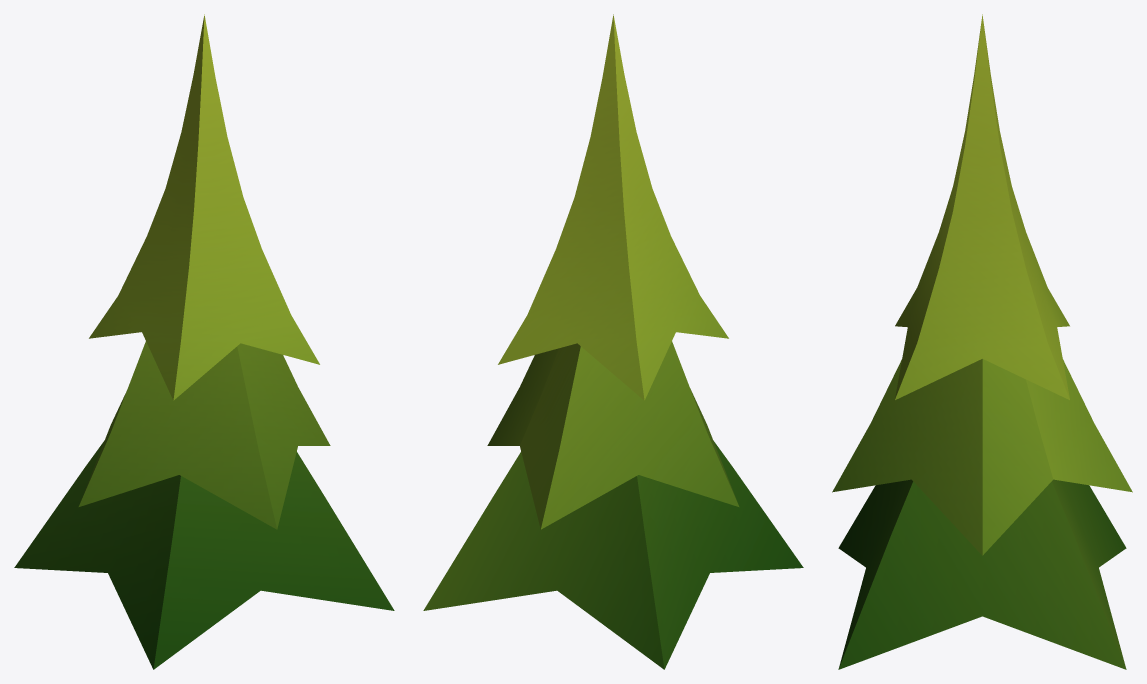
File: tree1.FBX
3 renders of one model, left to right at view 1: azimuth 30°, elevation 25°; view 2: azimuth 150°, elevation 25°; view 3: azimuth 270°, elevation 25°, orthographic. The views are drawn at different scales.
Parts seen in each view (by area): view 1: Pyramid011; view 2: Pyramid011; view 3: Pyramid011.
Part boxes in pixels (x1,y1,x2,y2): Pyramid011: (14, 14, 394, 669); Pyramid011: (423, 14, 803, 669); Pyramid011: (832, 14, 1132, 669).
Size of the model in its own units: 29.26 by 63.82 by 29.24.
